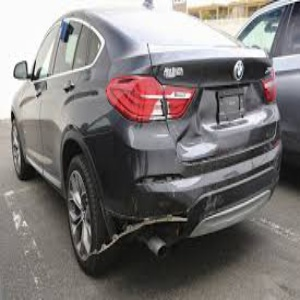bumper: (102, 205, 189, 262)
